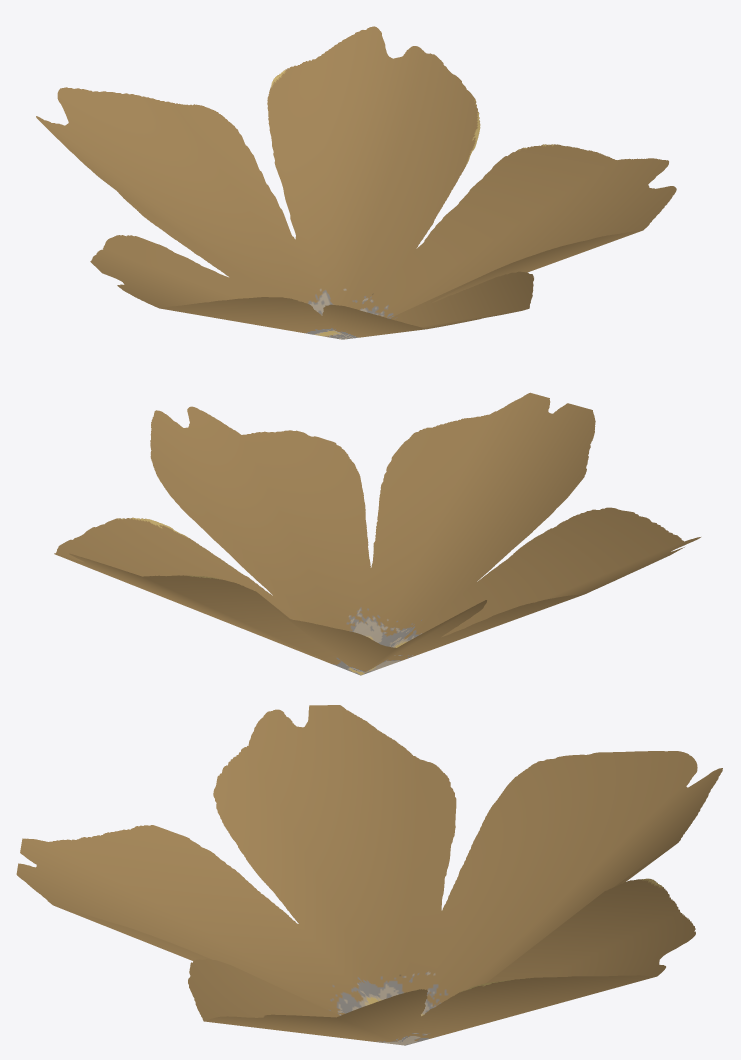
Rendered from Petal_3__go_village.glb.
3 views of the same model, one above another, from view 1: azimuth 30°, elevation 25°; view 2: azimuth 150°, elevation 25°; view 3: azimuth 270°, elevation 25° (orthographic). The views are drawn at different scales.
Visible parts, largest first — view 1: Petal_3; view 2: Petal_3; view 3: Petal_3.
Boxes of the visible parts, x1,y1,x2,y2 form: Petal_3: (36, 26, 676, 339); Petal_3: (54, 392, 700, 675); Petal_3: (16, 705, 722, 1045).
Size of the model in its own units: 0.6195 by 0.1895 by 0.6064.
1 material, 1 textured.
